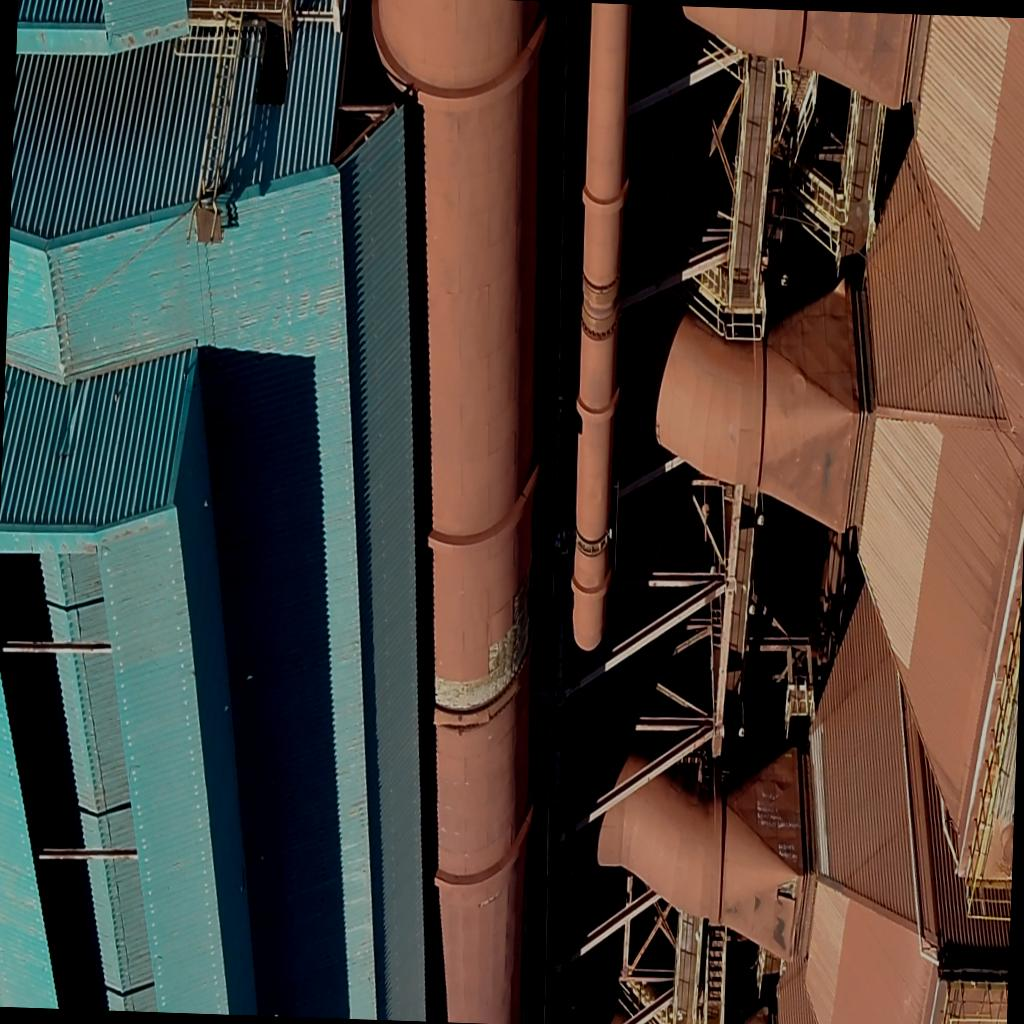Failures: (422, 585, 532, 720), (776, 876, 798, 914)
